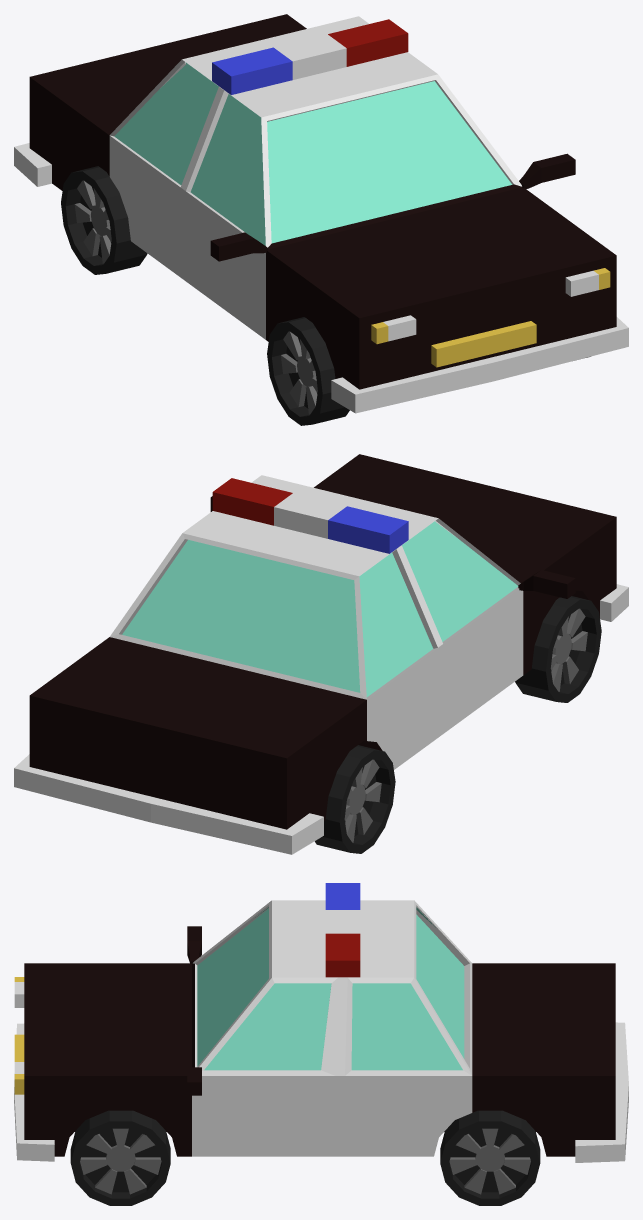
File: PoliceCar.fbx
3 renders of one model, top to bottom at view 1: azimuth 30°, elevation 25°; view 2: azimuth 150°, elevation 25°; view 3: azimuth 270°, elevation 25°, orthographic. The views are drawn at different scales.
Visible parts, largest first — view 1: CarBase.003; view 2: CarBase.003; view 3: CarBase.003.
Part boxes in pixels (bbox=[...]): CarBase.003: bbox=[14, 14, 628, 425]; CarBase.003: bbox=[14, 454, 628, 854]; CarBase.003: bbox=[14, 883, 628, 1205].
Size of the model in its own units: 187 by 311 by 125.
